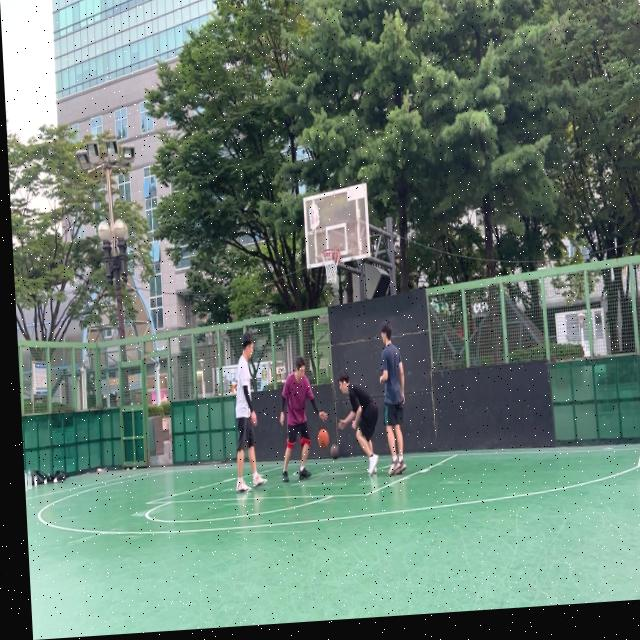basketball: (317, 429, 330, 449), (330, 443, 340, 460)
hoop: (321, 248, 342, 285)
